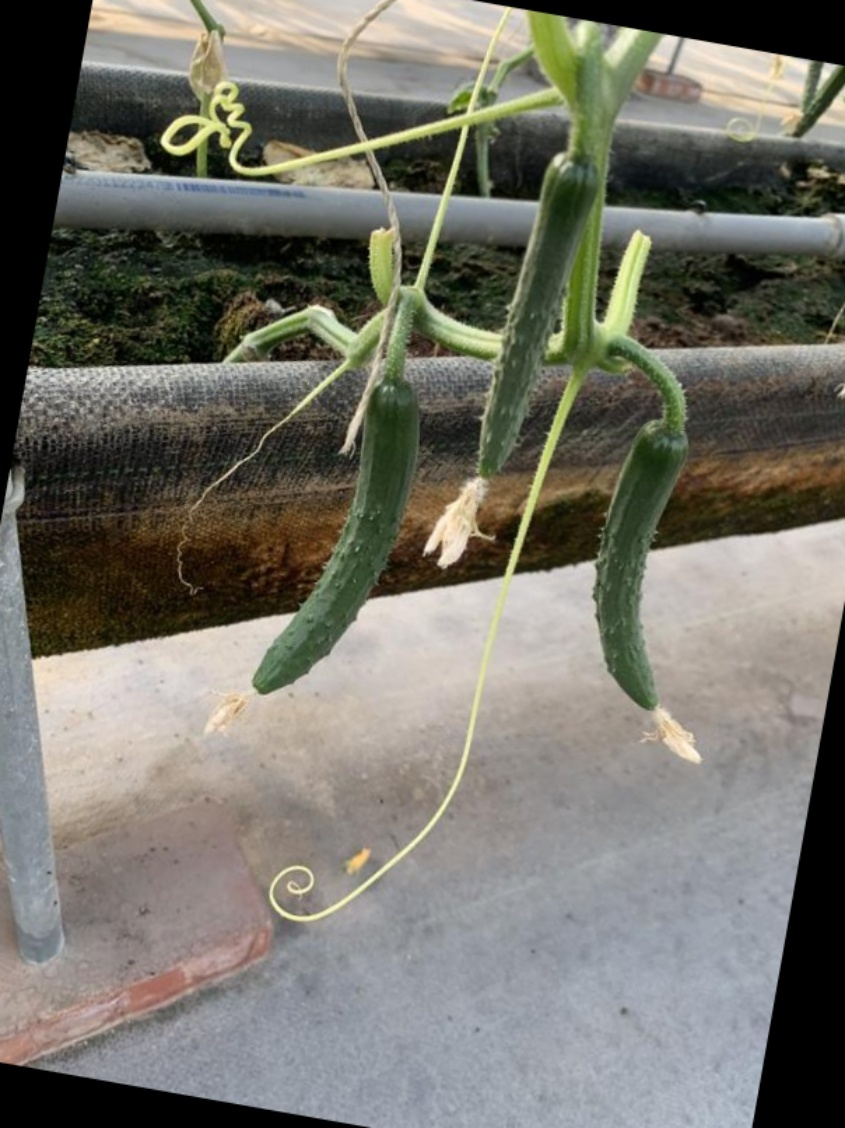growth: (459, 155, 597, 525)
